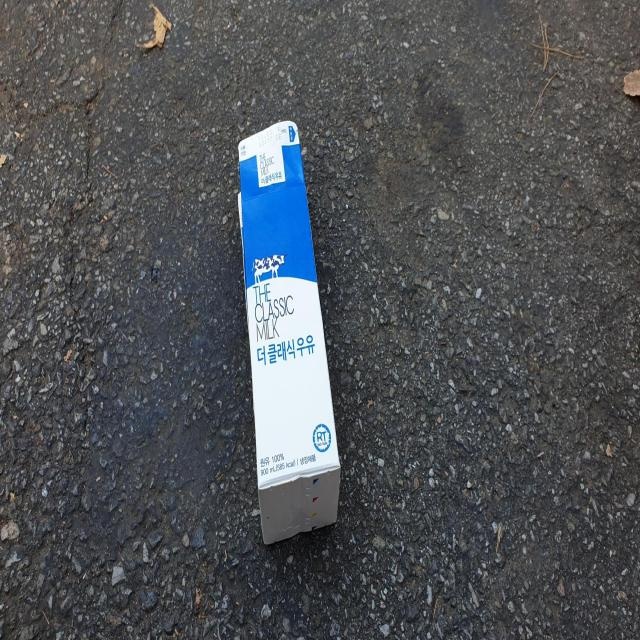paperpack: (238, 120, 340, 544)
